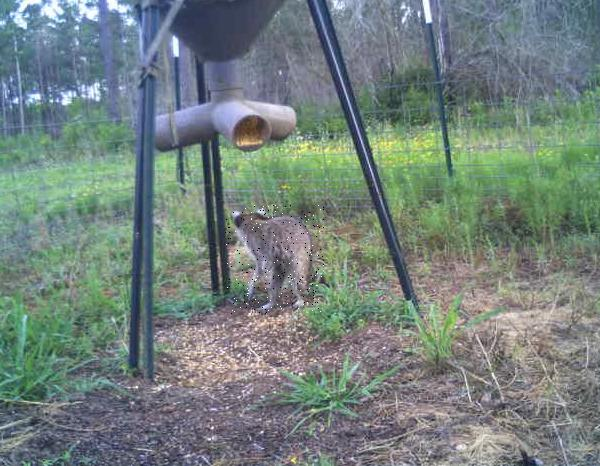Raccoon: (225, 206, 324, 315)
